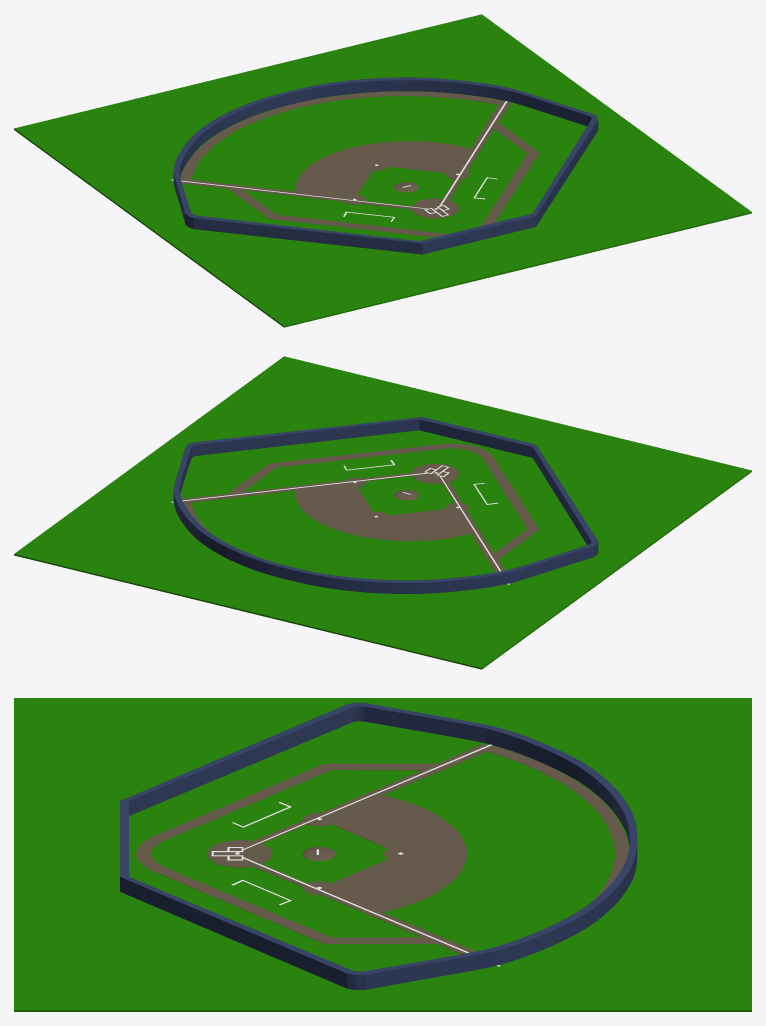
File: stadium.fbx
3 views of the same model, one above another, from view 1: azimuth 30°, elevation 25°; view 2: azimuth 150°, elevation 25°; view 3: azimuth 270°, elevation 25° (orthographic). The views are drawn at different scales.
Visible parts, largest first — view 1: Cube; view 2: Cube; view 3: Cube.
Part boxes in pixels (left/top/right/bottom): Cube: left=14, top=14, right=751, bottom=327; Cube: left=14, top=356, right=751, bottom=669; Cube: left=14, top=698, right=751, bottom=1011.
Size of the model in its own units: 40448 by 1552 by 40448.
